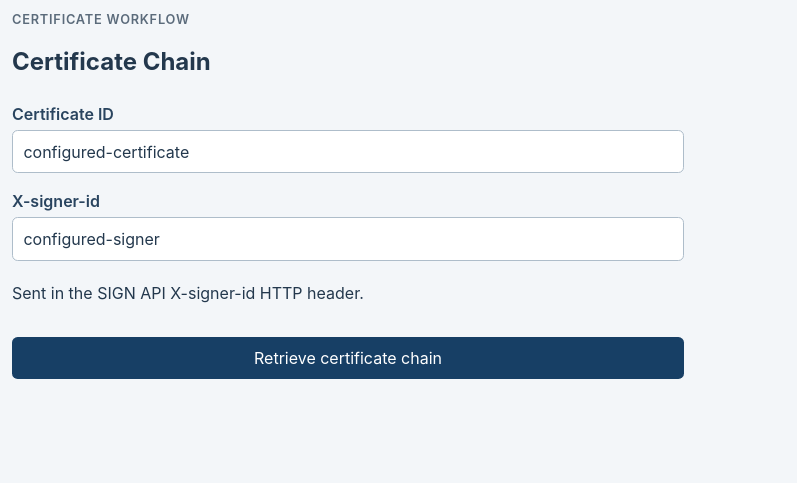
Test case: CertificateChainPage › shows a safe backend error
The width and height of the screenshot is (797, 483).
Replace the text in the field showing "configured-certificate" with "missing": (348, 152) [12, 130, 684, 174]
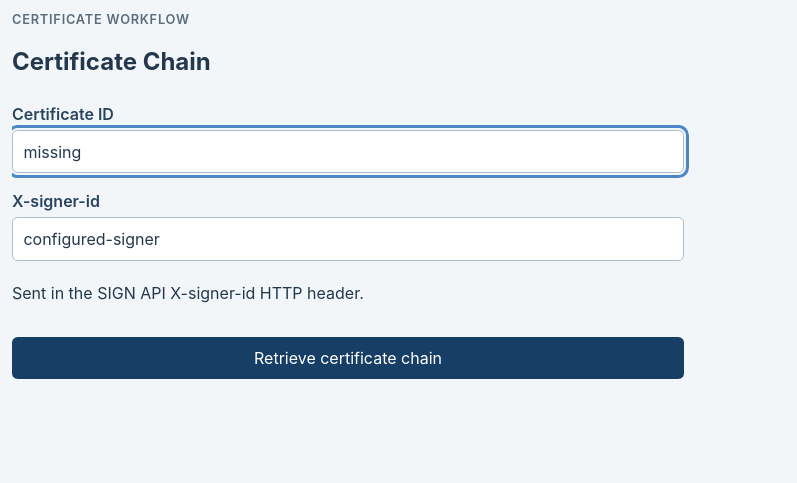
Click the button "Retrieve certificate chain": (348, 358) [12, 337, 684, 379]
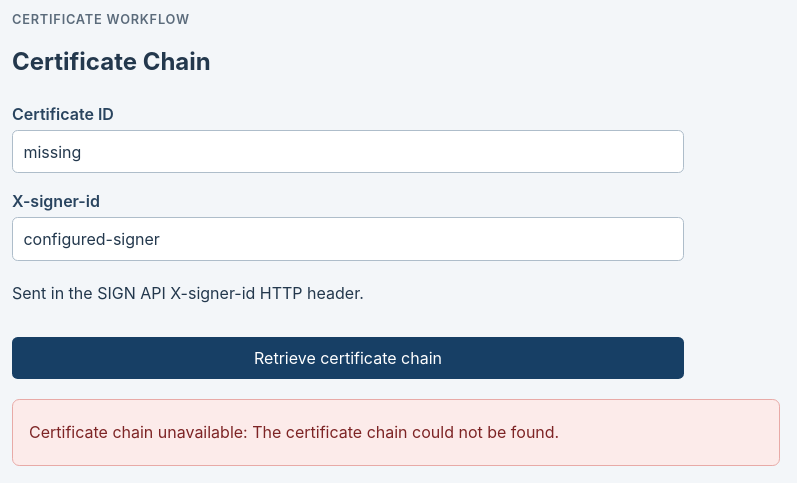
Expected: the message reads "Certificate chain unavailable: The certificate chain could not be found.", [29, 422, 559, 442]
